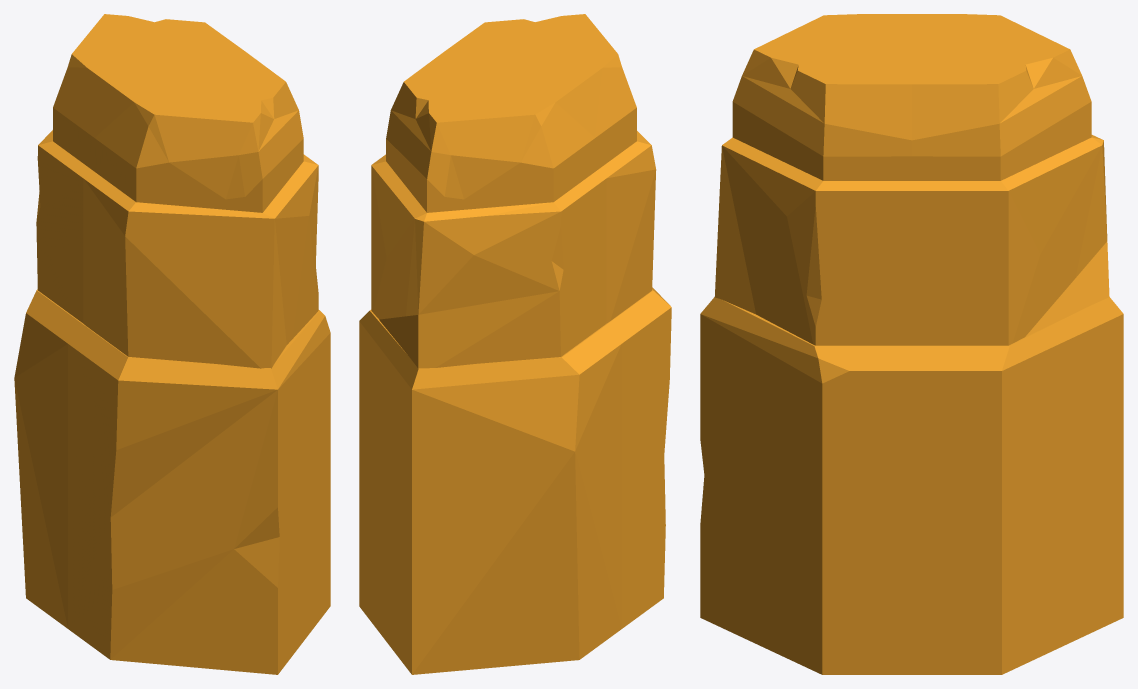
The model's file is SM_Bridge_Stone_Big_Base_Fantasy.fbx.
3 renders of one model, left to right at view 1: azimuth 30°, elevation 25°; view 2: azimuth 150°, elevation 25°; view 3: azimuth 270°, elevation 25°, orthographic. The views are drawn at different scales.
Visible parts, largest first — view 1: SM_Bridge_Stone_Big_Base_Fantasy; view 2: SM_Bridge_Stone_Big_Base_Fantasy; view 3: SM_Bridge_Stone_Big_Base_Fantasy.
Boxes of the visible parts, <box> form: SM_Bridge_Stone_Big_Base_Fantasy: <box>14,14,330,674</box>; SM_Bridge_Stone_Big_Base_Fantasy: <box>359,14,671,674</box>; SM_Bridge_Stone_Big_Base_Fantasy: <box>700,14,1123,674</box>.
Bounding box in the file's own units: 10.51 × 23.94 × 16.16.
